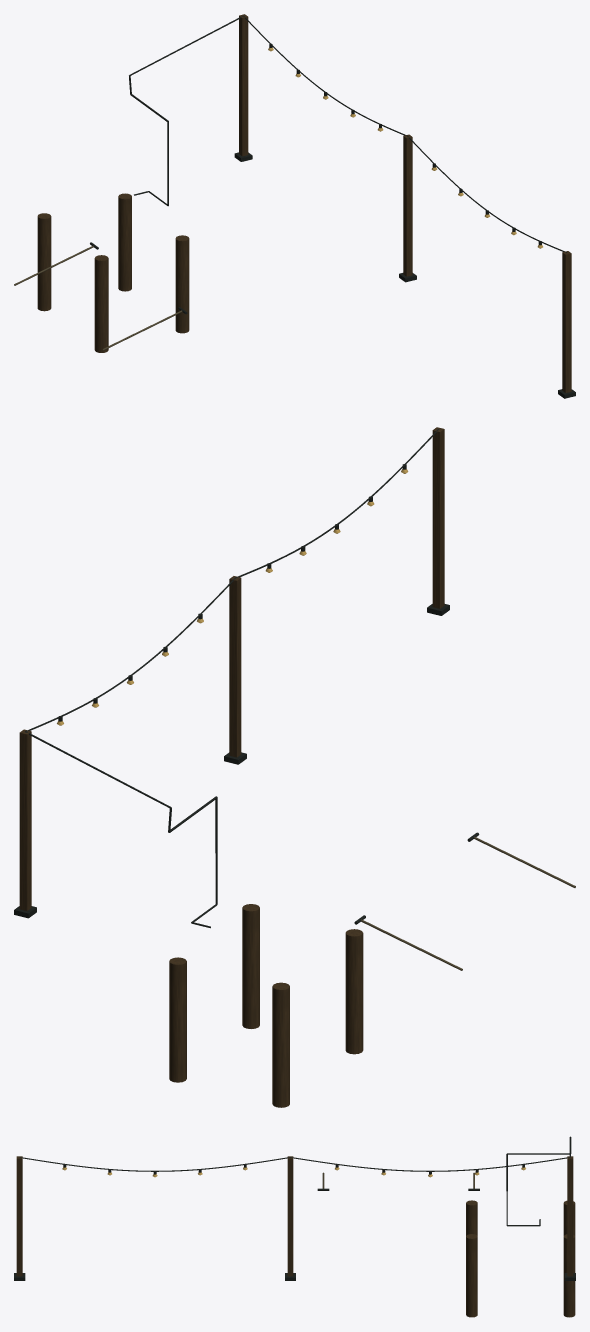
File: level_camp_dock_utilities_refined.glb
The picture shows the model from 3 angles, top to bottom: view 1: azimuth 30°, elevation 25°; view 2: azimuth 150°, elevation 25°; view 3: azimuth 270°, elevation 25°; orthographic projection. The views are drawn at different scales.
Parts seen in each view (by area): view 1: level_camp_dock_utilities_refined; view 2: level_camp_dock_utilities_refined; view 3: level_camp_dock_utilities_refined.
Part boxes in pixels (box(x1,y1,x2,y2)): level_camp_dock_utilities_refined: box(14, 14, 575, 398); level_camp_dock_utilities_refined: box(14, 427, 575, 1107); level_camp_dock_utilities_refined: box(14, 1136, 575, 1317).
Size of the model in its own units: 6.35 by 5.07 by 12.45.
4 materials, 4 textured.
